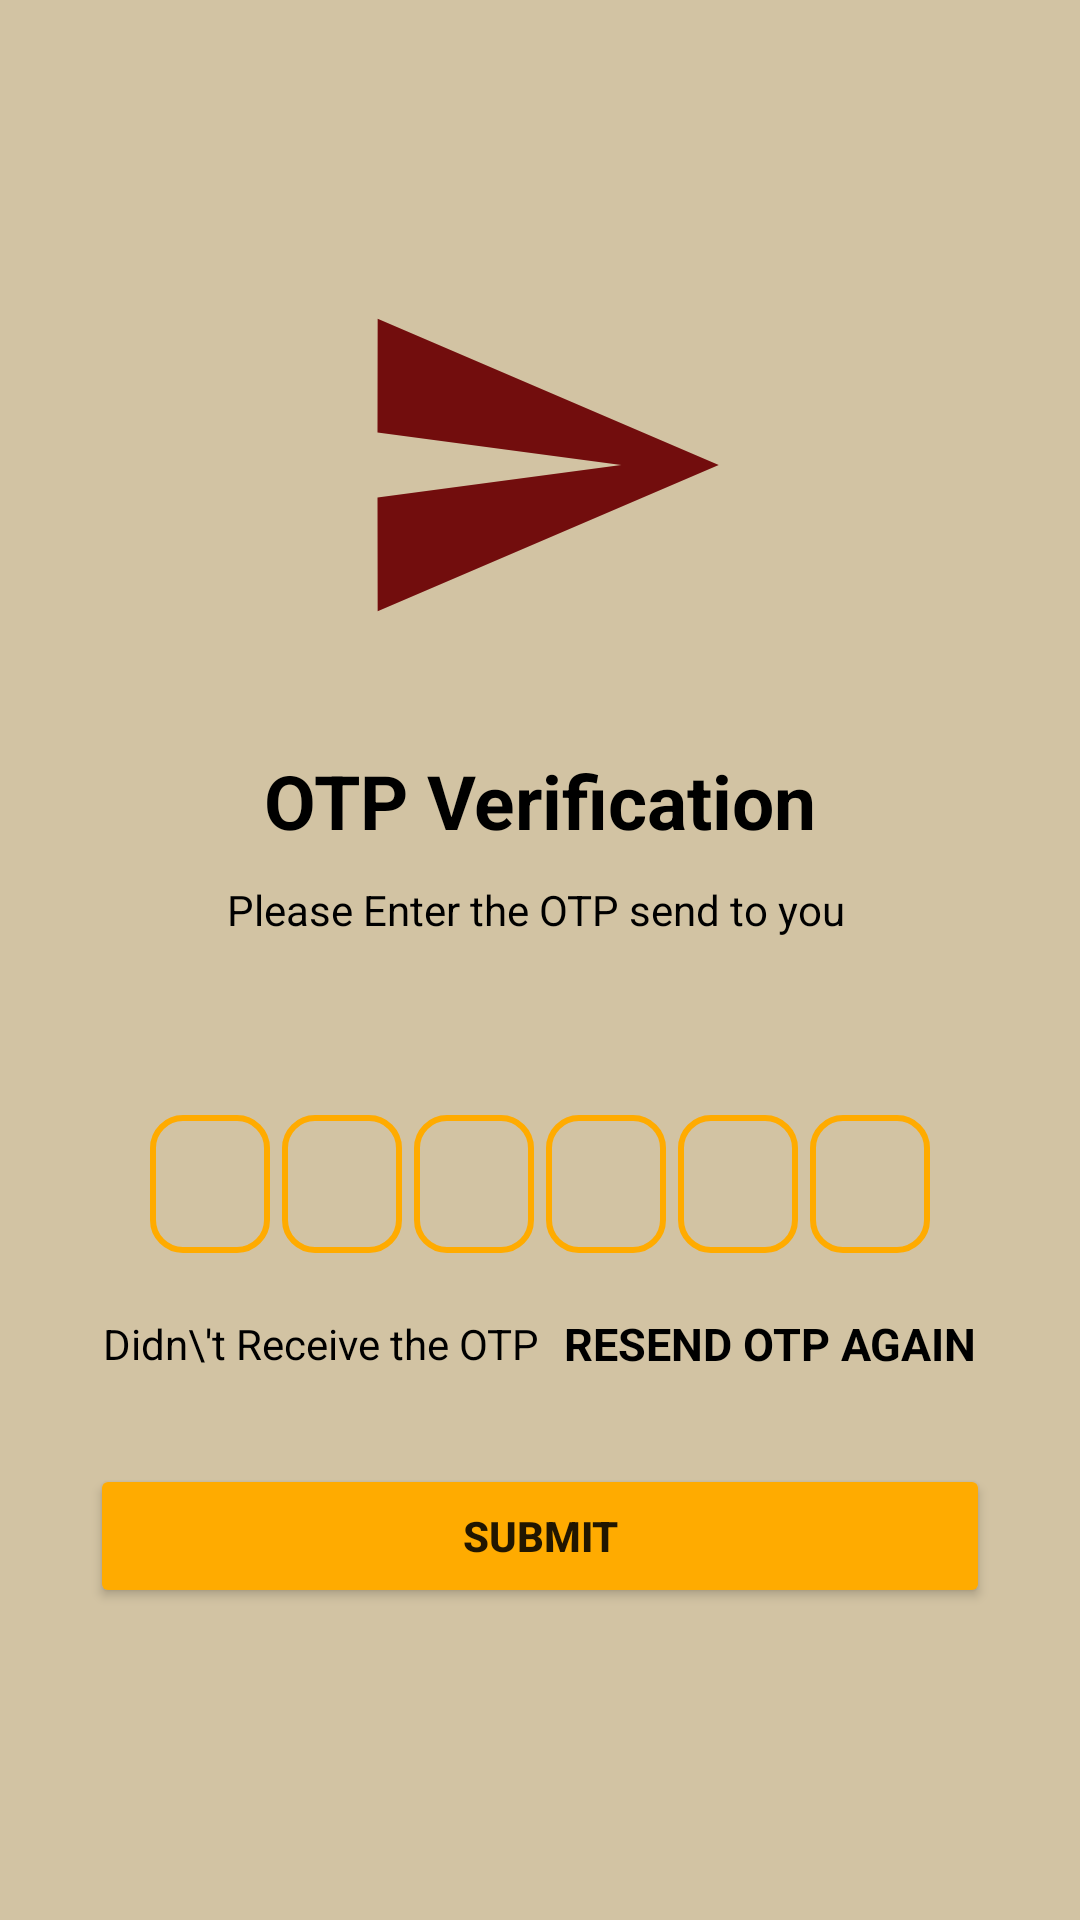

Named icons in this screenshot (1080 × 1920) and their bounding boxes, (x1, y1, x2, y2):
send otp: (377, 319, 718, 611)
